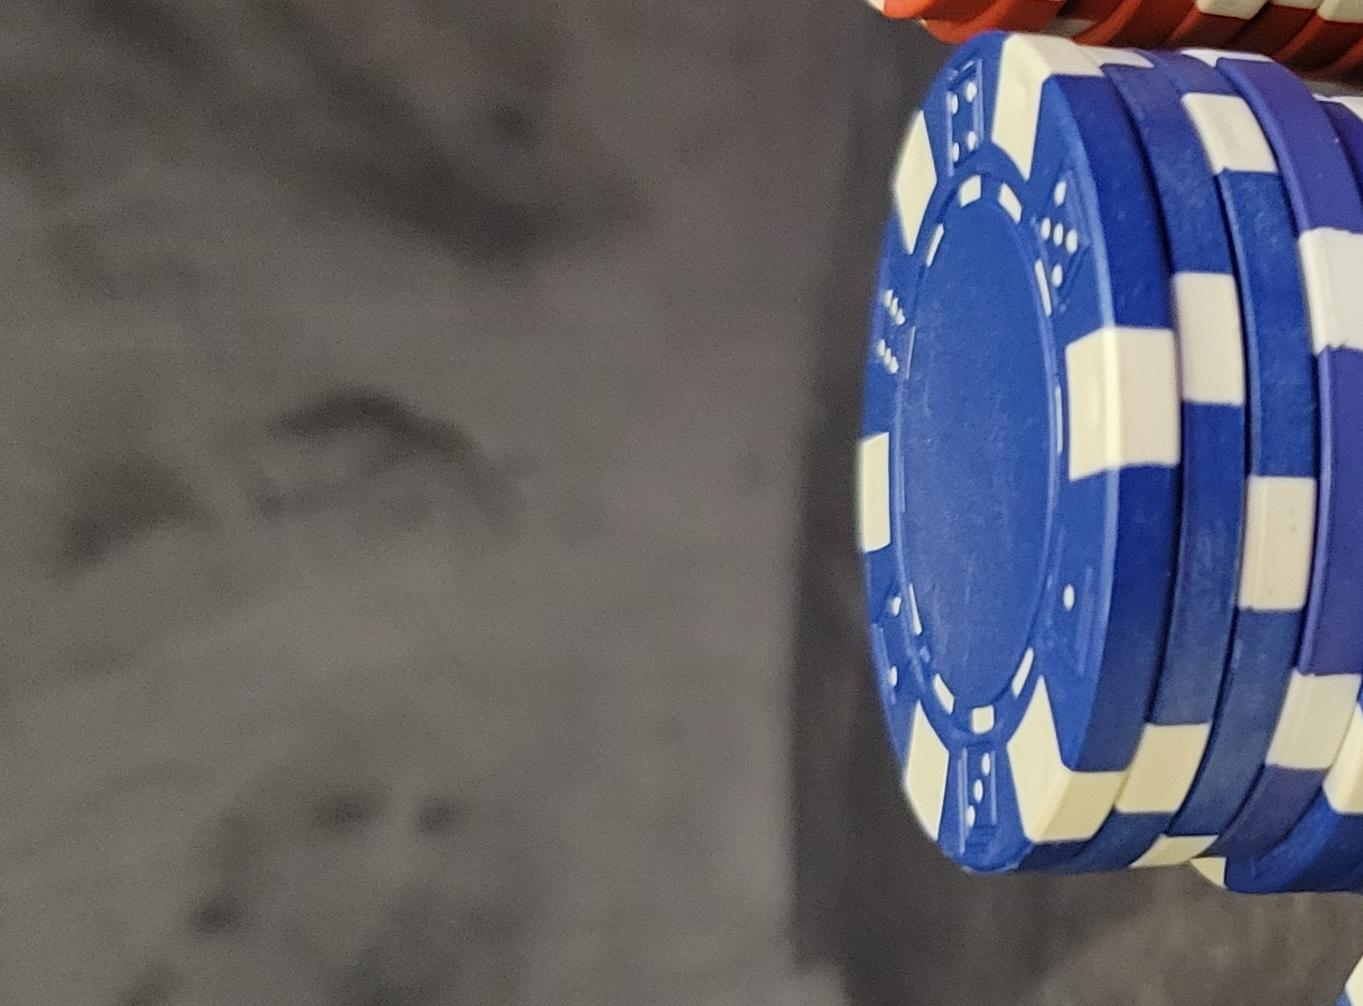Chip: (1, 331, 969, 1006)
